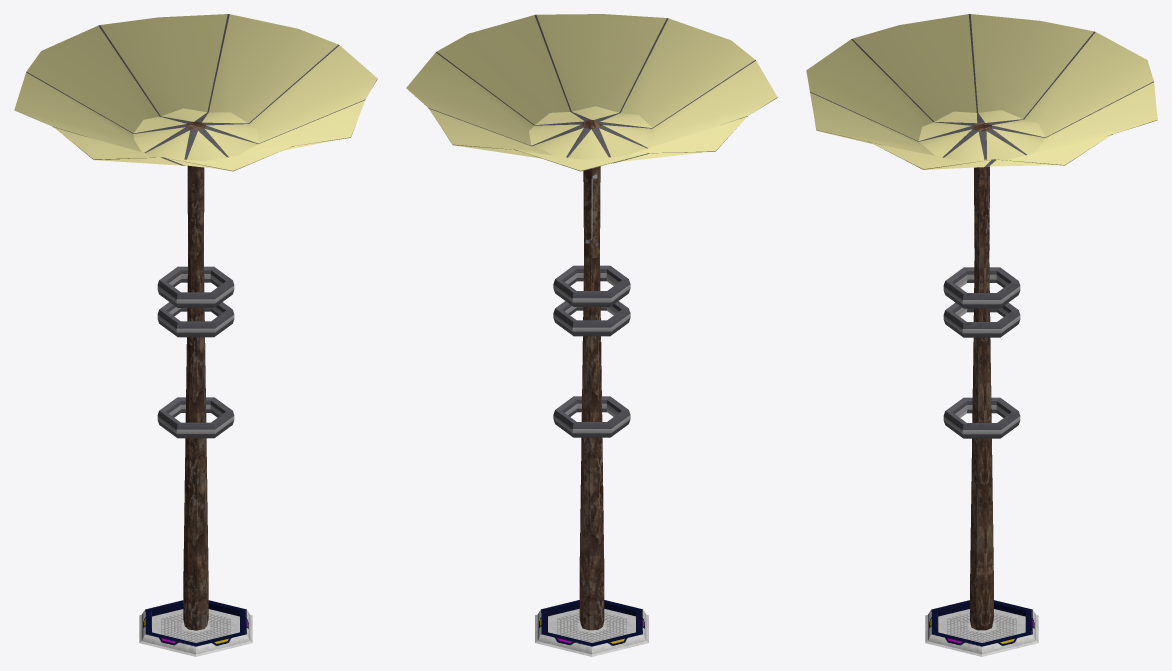
File: Museum_Tree_02_b_Art.fbx
The picture shows the model from 3 angles, left to right: view 1: azimuth 30°, elevation 25°; view 2: azimuth 150°, elevation 25°; view 3: azimuth 270°, elevation 25°; orthographic projection.
Visible parts, largest first — view 1: Museum_Tree_02_b; view 2: Museum_Tree_02_b; view 3: Museum_Tree_02_b.
Part boxes in pixels (x1,y1,x2,y2): Museum_Tree_02_b: (14, 14, 377, 656); Museum_Tree_02_b: (406, 14, 777, 656); Museum_Tree_02_b: (806, 14, 1157, 656).
Size of the model in its own units: 702 by 1196 by 702.
4 materials, 2 textured.
